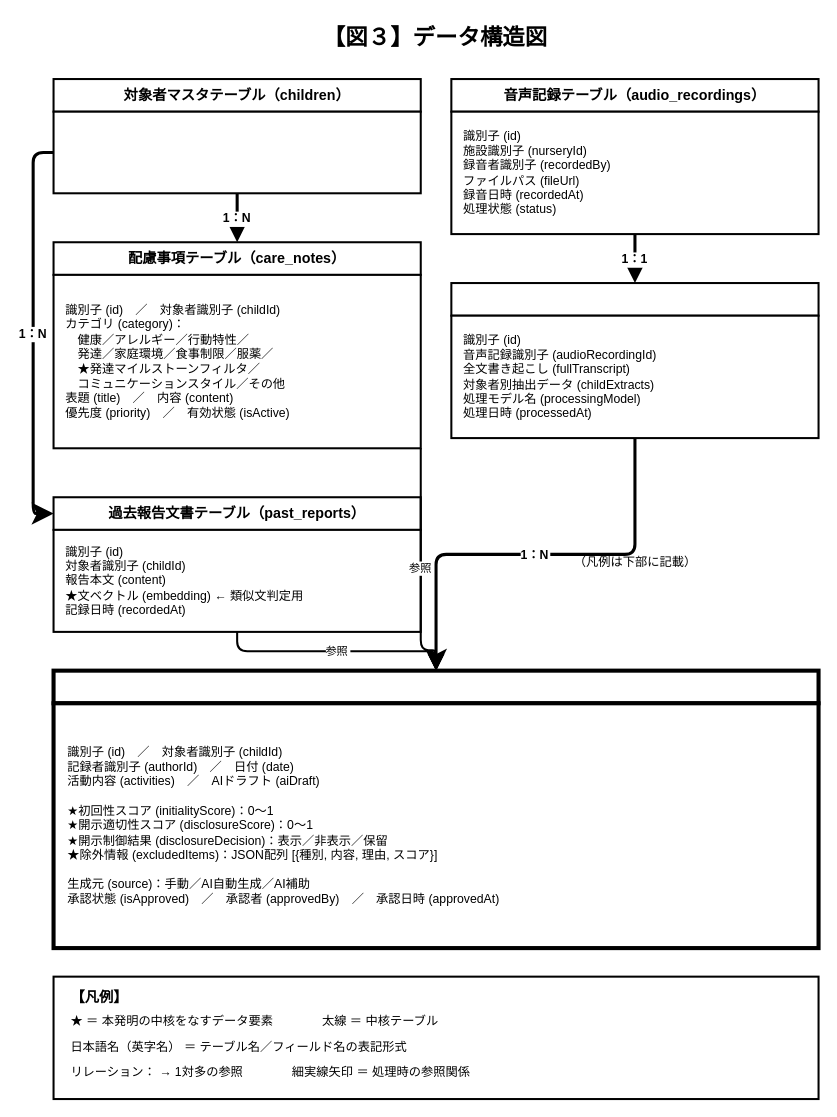
Some shapes in this 837 by 1117 pixel diagram are drawn without their labels. The shapes that lost their labels are listed below. From the top down, each one's box as (x1, y1, x2, y2) in pixels, then its label:
(52, 110, 421, 194): 識別子 (id) 氏名 (name) 施設識別子 (nurseryId) クラス識別子 (classId)
(450, 282, 819, 316): 音声書き起こしテーブル（audio_transcripts）
(51, 668, 820, 705): ★報告文書テーブル（contact_book_entries）【中核】
